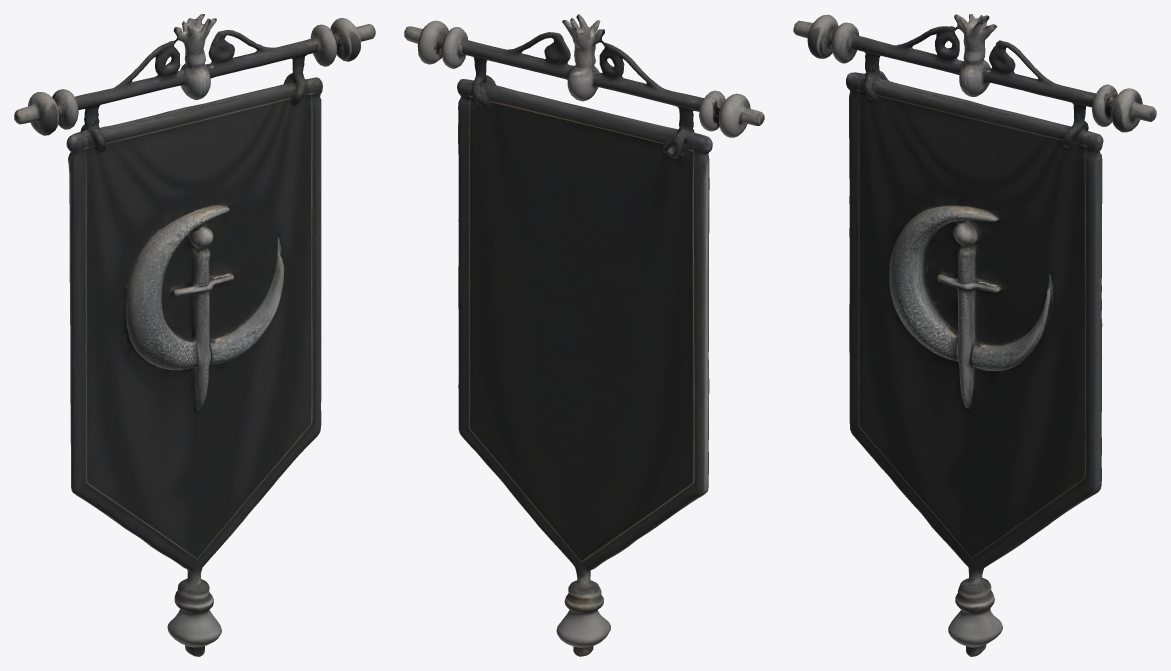
Rendered from family_banner_purple.glb.
3 views of the same model, side by side, from view 1: azimuth 30°, elevation 25°; view 2: azimuth 150°, elevation 25°; view 3: azimuth 330°, elevation 25° (orthographic).
Size of the model in its own units: 1.18 by 2 by 0.1812.
1 material, 1 textured.
